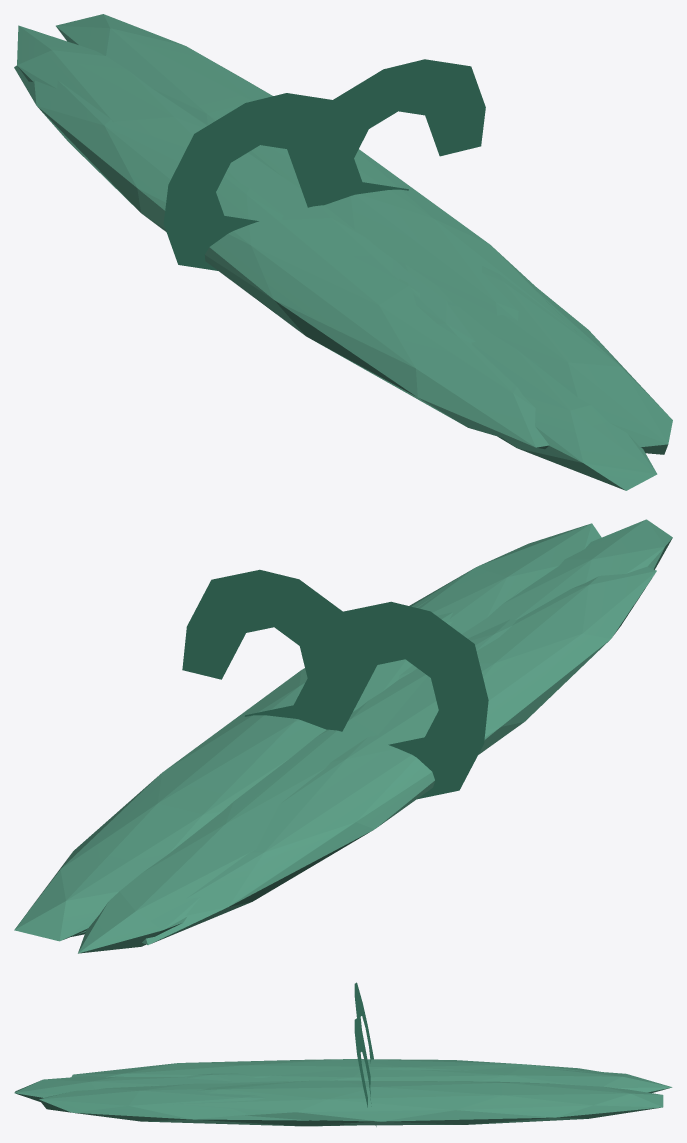
File: adiantum-philippense.glb
3 views of the same model, one above another, from view 1: azimuth 30°, elevation 25°; view 2: azimuth 150°, elevation 25°; view 3: azimuth 270°, elevation 25° (orthographic). The views are drawn at different scales.
Visible parts, largest first — view 1: frond3, frond0, frond4, fiddle-1, fiddle1, frond1, frond2; view 2: frond3, frond0, frond4, fiddle-1, fiddle1, frond1, frond2; view 3: frond0, frond1, frond4, frond3, frond2, fiddle1, fiddle-1.
Boxes of the visible parts, x1=… form: frond3: x1=14, y1=65, x2=549, y2=449; frond0: x1=56, y1=14, x2=577, y2=332; frond4: x1=17, y1=25, x2=475, y2=344; fiddle-1: x1=163, y1=93, x2=346, y2=270; fiddle1: x1=301, y1=59, x2=485, y2=207; frond1: x1=437, y1=266, x2=672, y2=454; frond2: x1=447, y1=301, x2=657, y2=490; frond3: x1=142, y1=567, x2=656, y2=944; frond0: x1=14, y1=594, x2=453, y2=941; frond4: x1=78, y1=619, x2=517, y2=953; fiddle-1: x1=319, y1=601, x2=488, y2=799; fiddle1: x1=182, y1=569, x2=356, y2=731; frond1: x1=409, y1=523, x2=601, y2=634; frond2: x1=462, y1=519, x2=672, y2=638; frond0: x1=173, y1=1080, x2=663, y2=1125; frond1: x1=39, y1=1083, x2=356, y2=1126; frond4: x1=185, y1=1066, x2=672, y2=1092; frond3: x1=71, y1=1059, x2=600, y2=1077; frond2: x1=14, y1=1076, x2=237, y2=1101; fiddle1: x1=354, y1=1018, x2=376, y2=1126; fiddle-1: x1=354, y1=982, x2=373, y2=1063.
Size of the model in its own units: 0.184 by 0.1057 by 0.6211.
